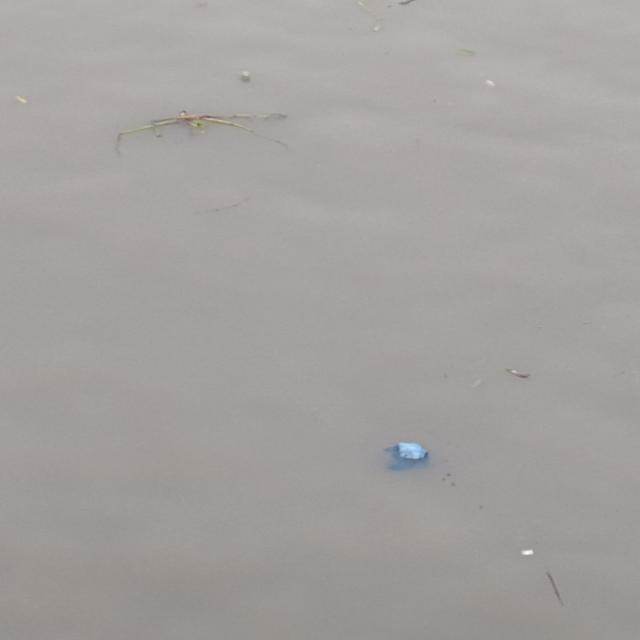Organic Debris: (106, 99, 298, 163), (170, 194, 255, 224), (536, 568, 578, 609), (350, 0, 391, 40), (502, 362, 538, 383), (471, 74, 505, 94), (236, 69, 262, 87), (6, 96, 37, 106)
Plastic: (381, 439, 434, 478), (513, 547, 551, 561)
